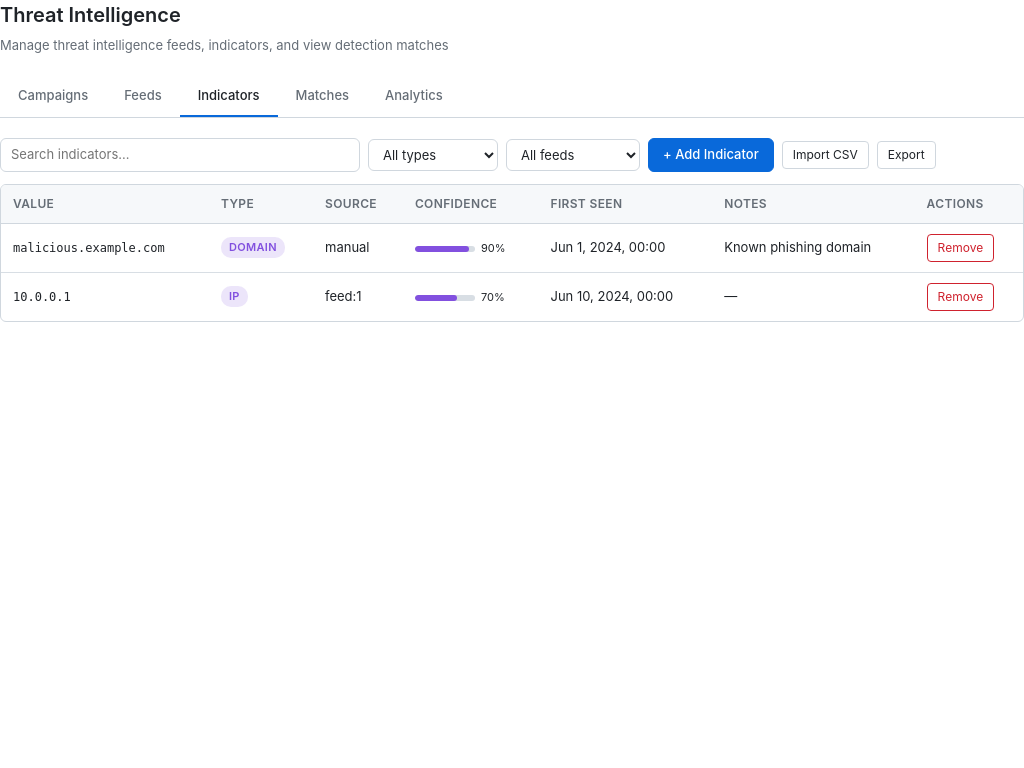
Test: ThreatIntelPage › opens indicator detail drawer when clicking a row
Expected: the text "malicious.example.com" is shown, x1=13 y1=241 x2=165 y2=255
Click the button with aria-label "View details for malicious.example.com" at (512, 248), box x1=1 y1=223 x2=1023 y2=272
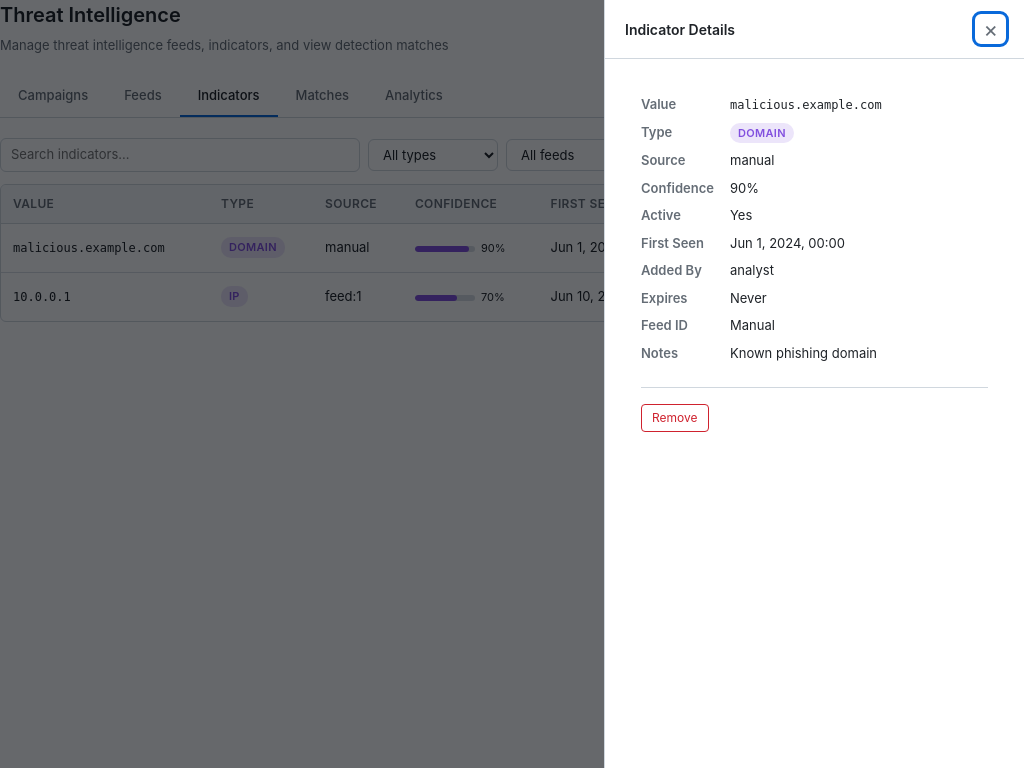
Expected: the dialog with test id "drawer-panel" is shown, x1=604 y1=0 x2=1023 y2=767
Expected: the text "Indicator Details" is shown, x1=625 y1=18 x2=735 y2=40
Expected: the dialog with test id "drawer-panel" shows "Known phishing domain", x1=730 y1=344 x2=877 y2=360
